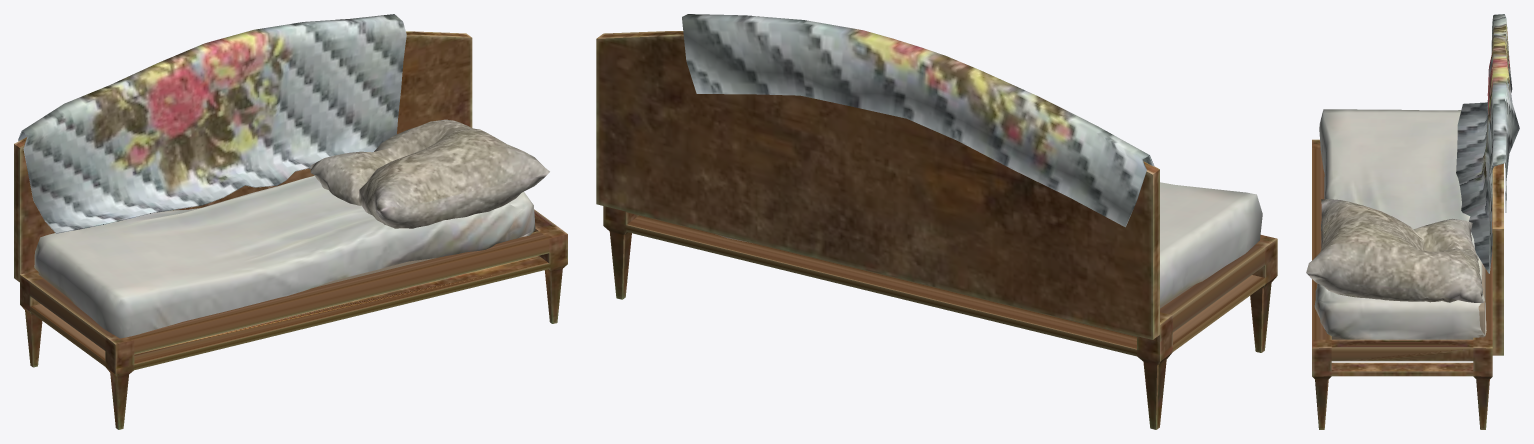
The model's file is day-bed.glb.
The picture shows the model from 3 angles, left to right: view 1: azimuth 30°, elevation 25°; view 2: azimuth 150°, elevation 25°; view 3: azimuth 270°, elevation 25°; orthographic projection. The views are drawn at different scales.
Visible parts, largest first — view 1: vintage_day_bed; view 2: vintage_day_bed; view 3: vintage_day_bed.
Boxes of the visible parts, bbox=[...] form: vintage_day_bed: bbox=[14, 14, 567, 429]; vintage_day_bed: bbox=[596, 14, 1277, 429]; vintage_day_bed: bbox=[1306, 14, 1519, 429].
Bounding box in the file's own units: 1.97 × 1.13 × 0.8547.
1 material, 1 textured.
